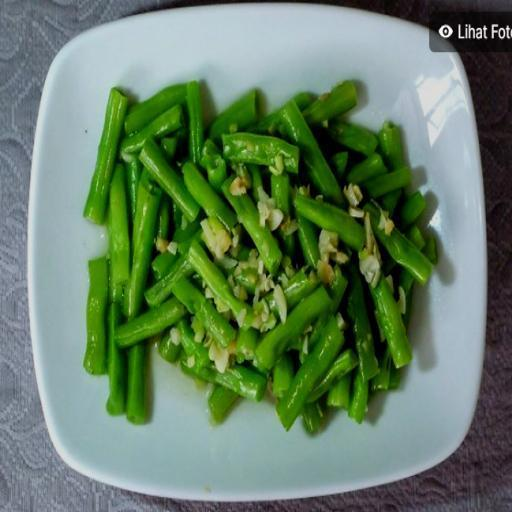buncis_rebus: (68, 57, 442, 454)
